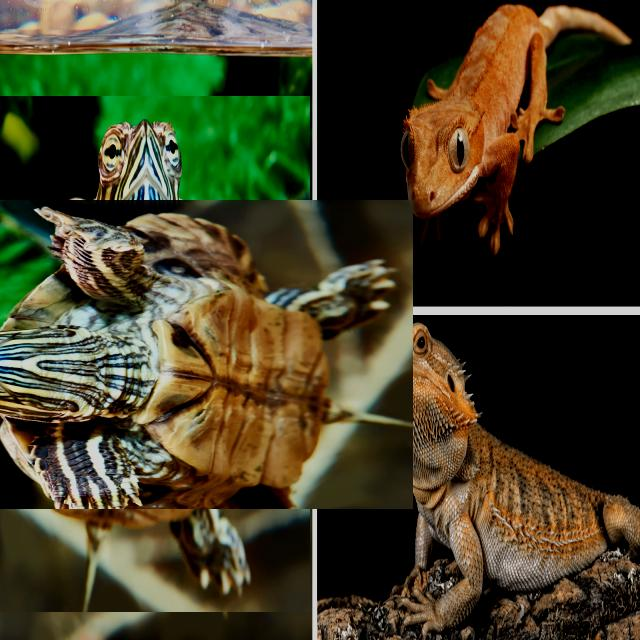Sea turtle: (0, 147, 361, 560)
